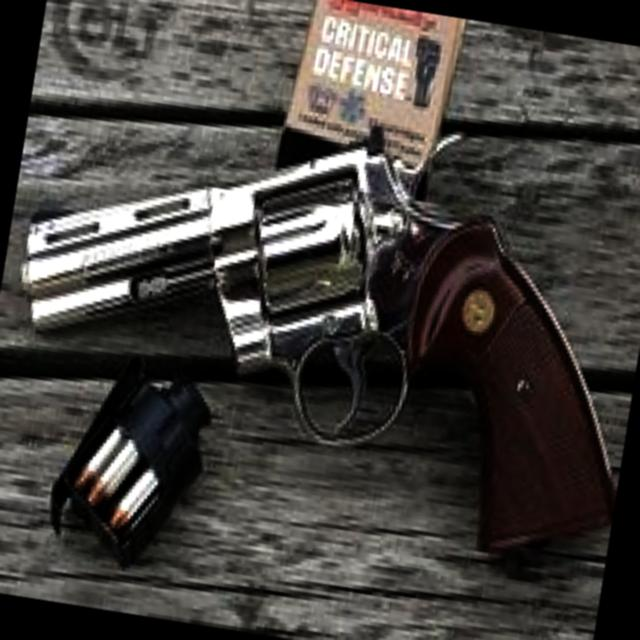revolver: (0, 67, 640, 634)
